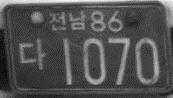0: (134, 37, 159, 87), (82, 37, 106, 86)
1: (62, 35, 74, 86)
6: (107, 9, 123, 34)
7: (105, 36, 131, 86)
8: (89, 9, 106, 33)
다: (19, 37, 47, 71)
전남_O: (46, 9, 87, 33)
